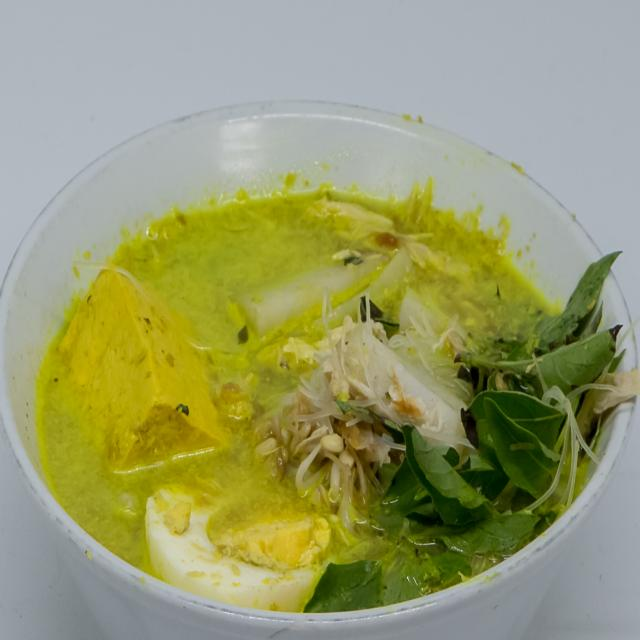Laksa-Bogor: (21, 99, 629, 625)
